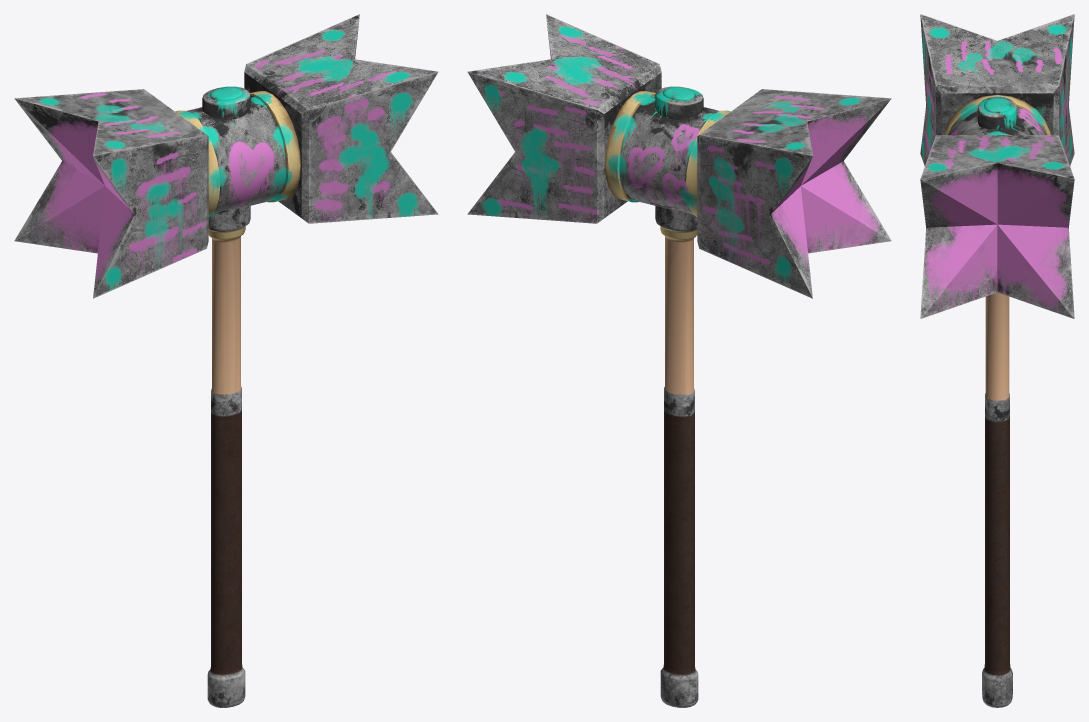
File: WarHammer.fbx
The picture shows the model from 3 angles, left to right: view 1: azimuth 30°, elevation 25°; view 2: azimuth 150°, elevation 25°; view 3: azimuth 270°, elevation 25°; orthographic projection. The views are drawn at different scales.
Parts seen in each view (by area): view 1: WarHammer; view 2: WarHammer; view 3: WarHammer.
Part boxes in pixels (box(x1,y1,x2,y2)): WarHammer: box(14, 14, 438, 707); WarHammer: box(467, 14, 891, 707); WarHammer: box(920, 14, 1074, 707).
Bounding box in the file's own units: 58.18 × 99.5 × 22.96.
1 material, 1 textured.
